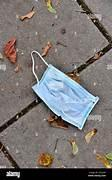Mask: (31, 51, 98, 128)
